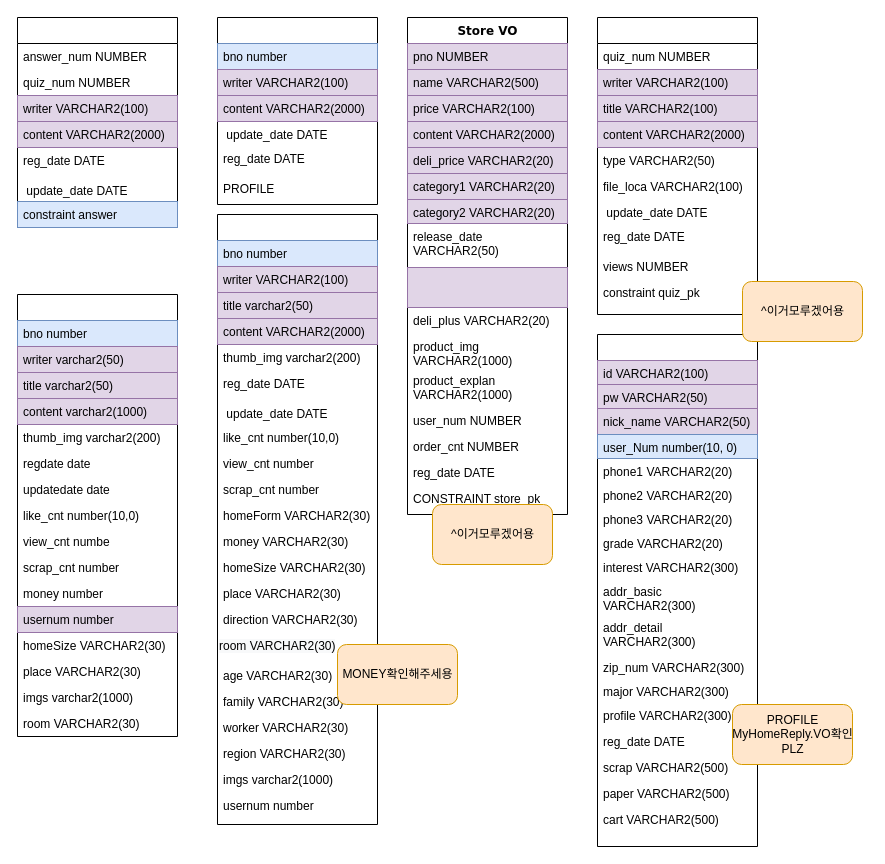
Some shapes in this 885 by 864 pixel diagram are drawn without their labels. Each missing label, with the box of its shape:
Aswer VO: (16, 16, 178, 228)
Complete VO: (16, 294, 178, 736)
MyHomeReplyVO: (216, 16, 378, 204)
MyHomeVO: (216, 214, 378, 824)
QuizVO: (596, 16, 758, 314)
thumbnail VARCHAR2(1000): (406, 266, 568, 308)
User VO: (596, 334, 758, 846)
